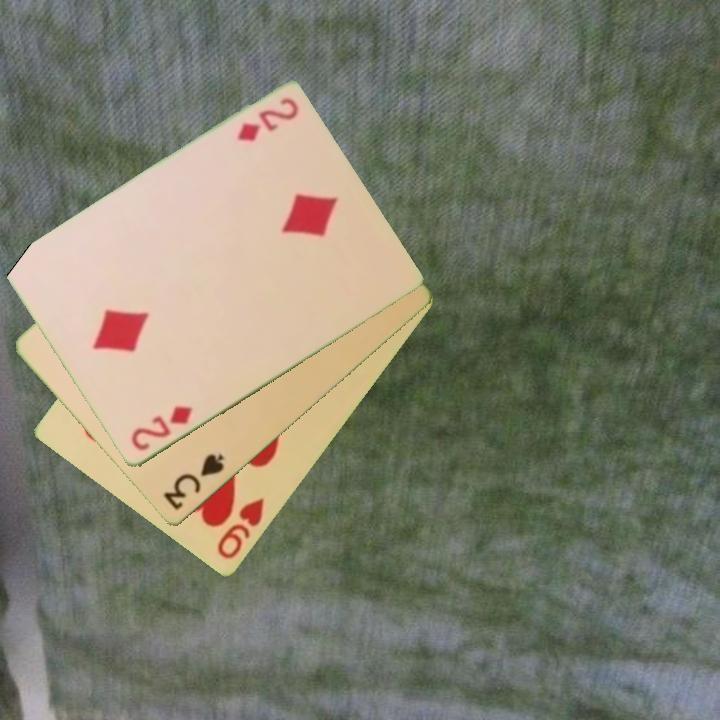2d: (127, 402, 195, 455), (233, 94, 302, 145)
3s: (159, 450, 227, 514)
9h: (213, 494, 267, 563)
